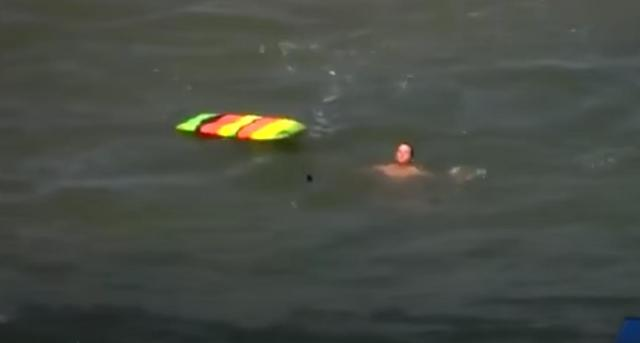drowning: (366, 127, 440, 190)
